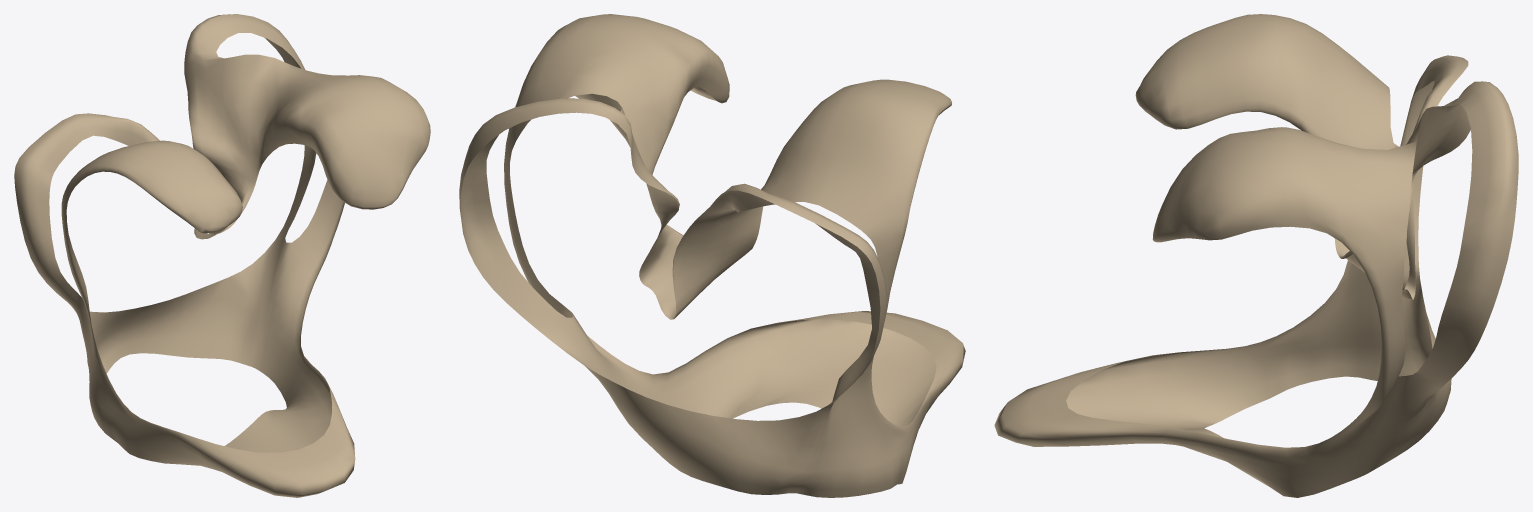
3 renders of one model, left to right at view 1: azimuth 30°, elevation 25°; view 2: azimuth 150°, elevation 25°; view 3: azimuth 270°, elevation 25°, orthographic. The views are drawn at different scales.
Visible parts, largest first — view 1: 右侧膝关节囊; view 2: 右侧膝关节囊; view 3: 右侧膝关节囊.
Part boxes in pixels (left/top/right/bottom): 右侧膝关节囊: left=14, top=14, right=430, bottom=497; 右侧膝关节囊: left=459, top=14, right=965, bottom=497; 右侧膝关节囊: left=994, top=14, right=1518, bottom=497.
Bounding box in the file's own units: 0.116 × 0.1121 × 0.1266.
